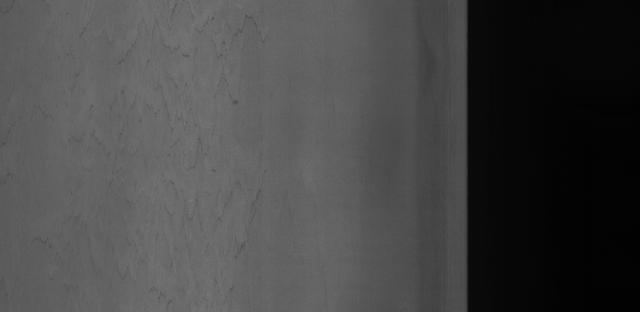silk_spot: (98, 31, 279, 287)
